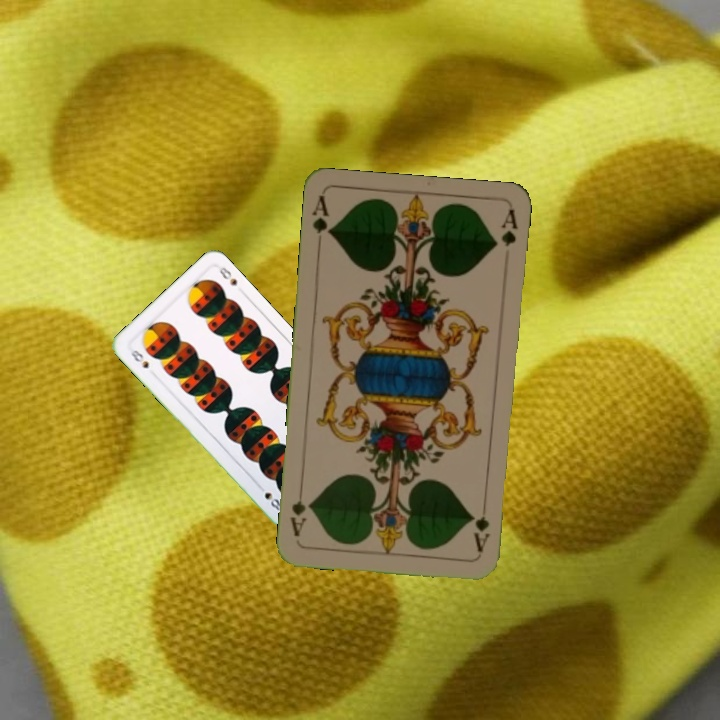GA: (309, 192, 335, 252), (470, 496, 492, 555)
S8: (124, 345, 151, 371)
